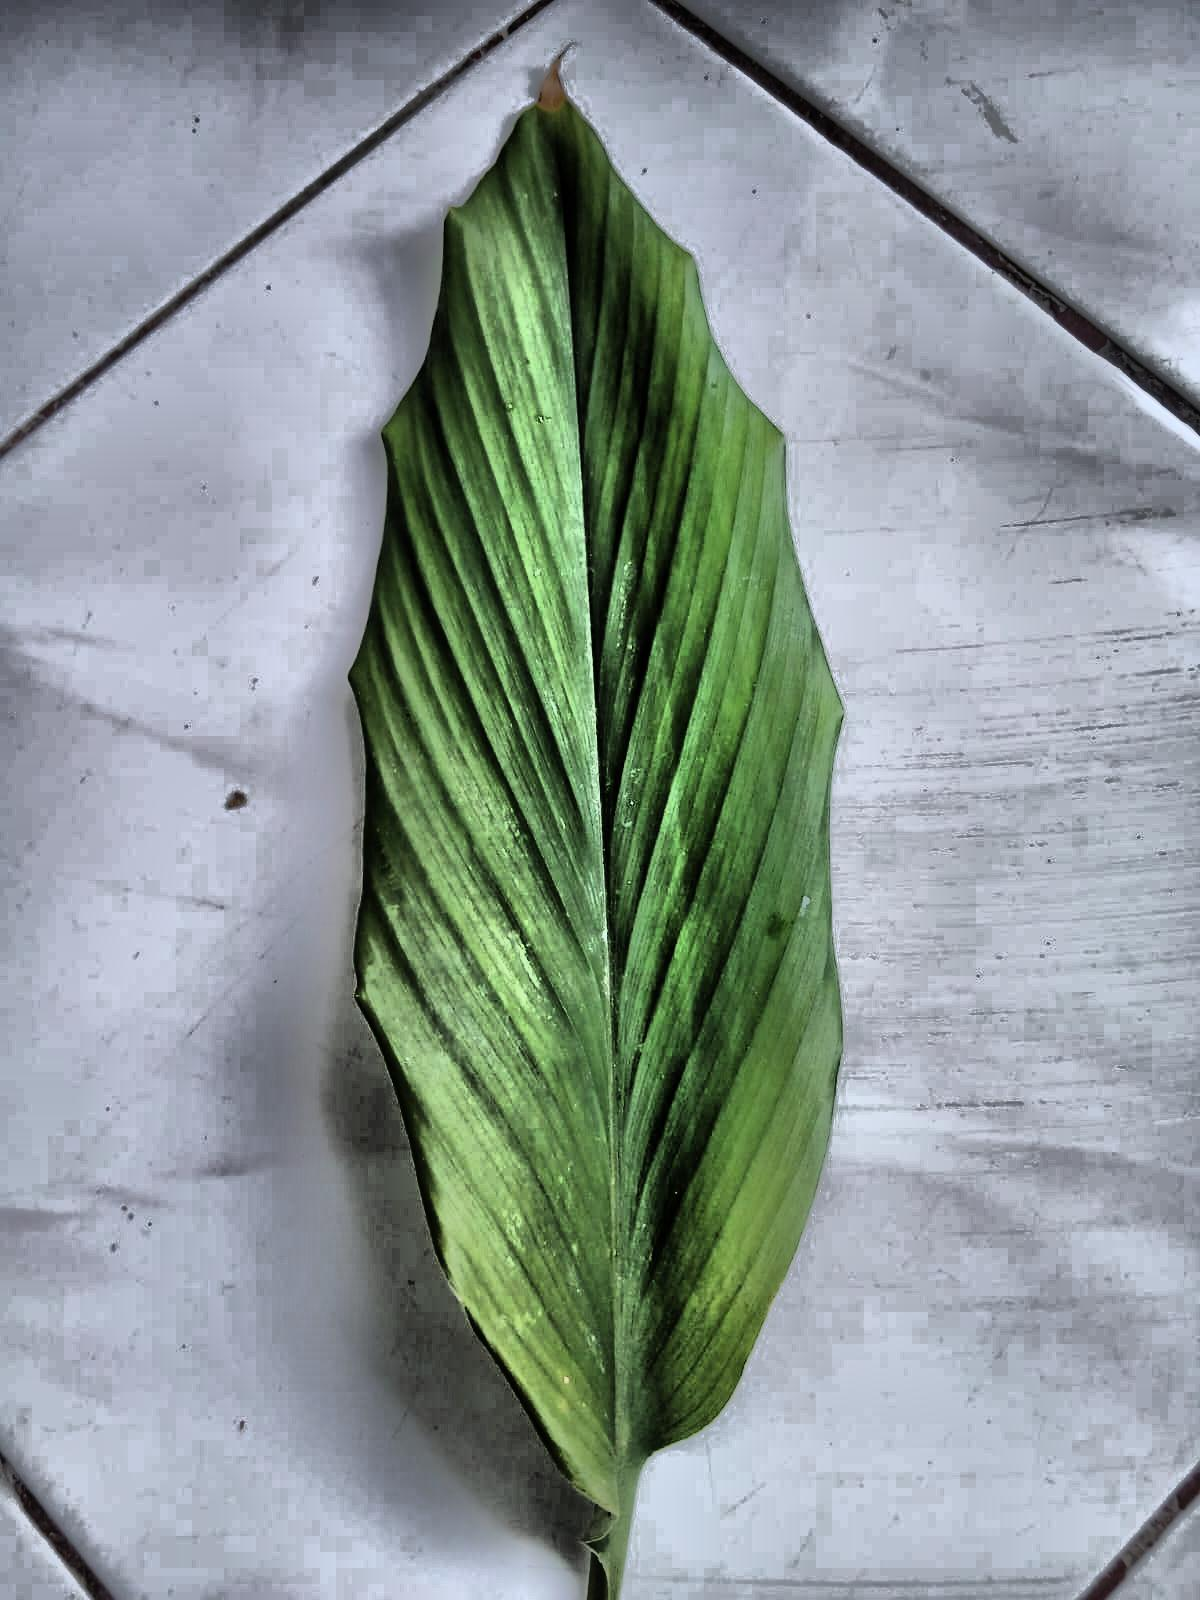daun kunyit: (350, 76, 842, 1599)
